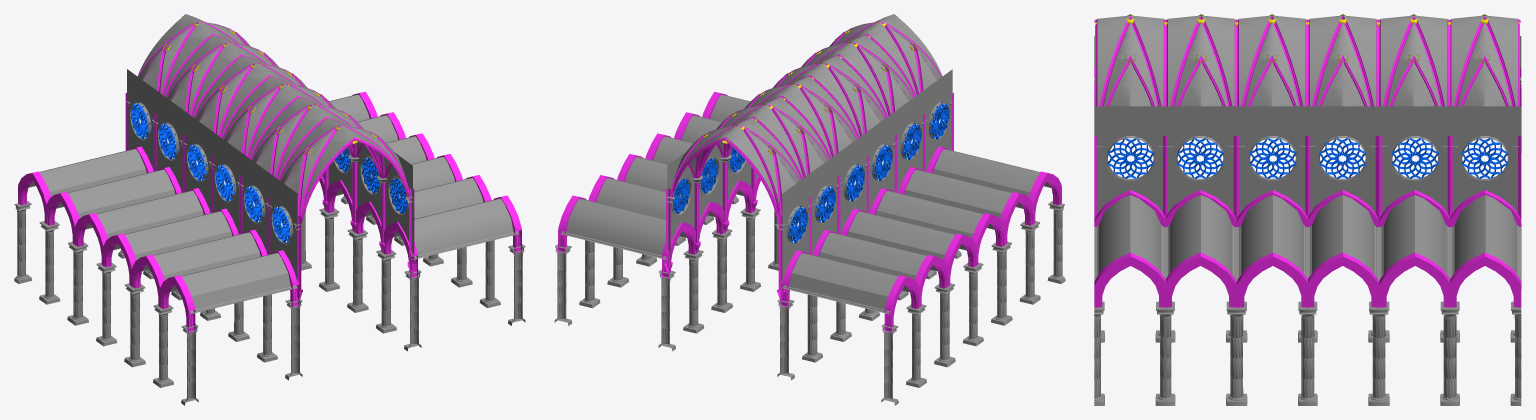
The model's file is Column.FBX.
The picture shows the model from 3 angles, left to right: view 1: azimuth 30°, elevation 25°; view 2: azimuth 150°, elevation 25°; view 3: azimuth 270°, elevation 25°; orthographic projection. The views are drawn at different scales.
Parts seen in each view (by area): view 1: Object057; view 2: Object057; view 3: Object057.
Part boxes in pixels (box(x1,y1,x2,y2)): Object057: box(14, 14, 525, 405); Object057: box(554, 14, 1065, 405); Object057: box(1094, 14, 1521, 405).
Size of the model in its own units: 5527 by 3545 by 4800.
